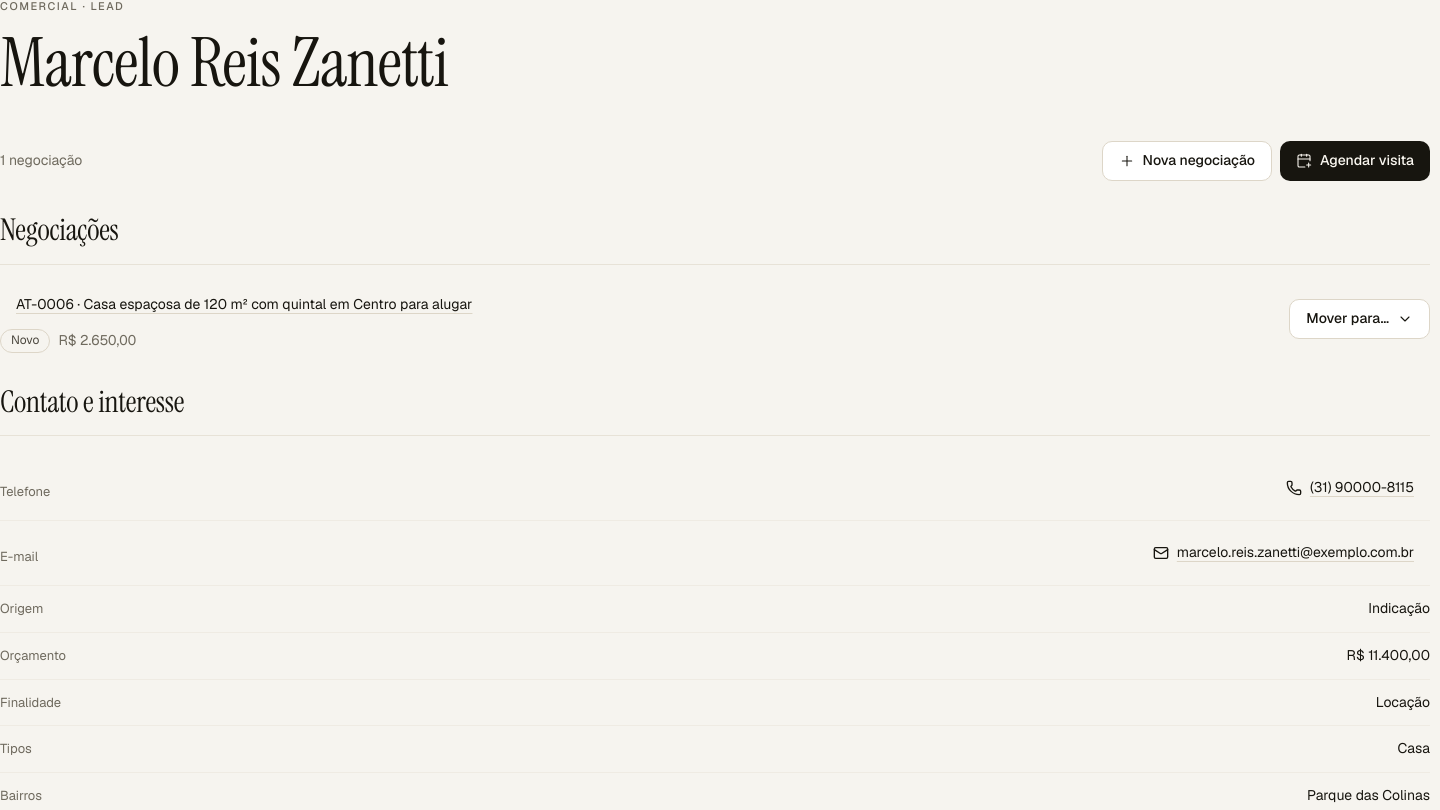
TelaLead (RF-33, RF-34, RF-37, RF-65, RF-70) › 'Nova negociação' cria outra negociação do lead, com imóvel opcional (RF-71)
Click the button "Nova negociação". click: [1187, 161]
box: [1102,141,1272,181]
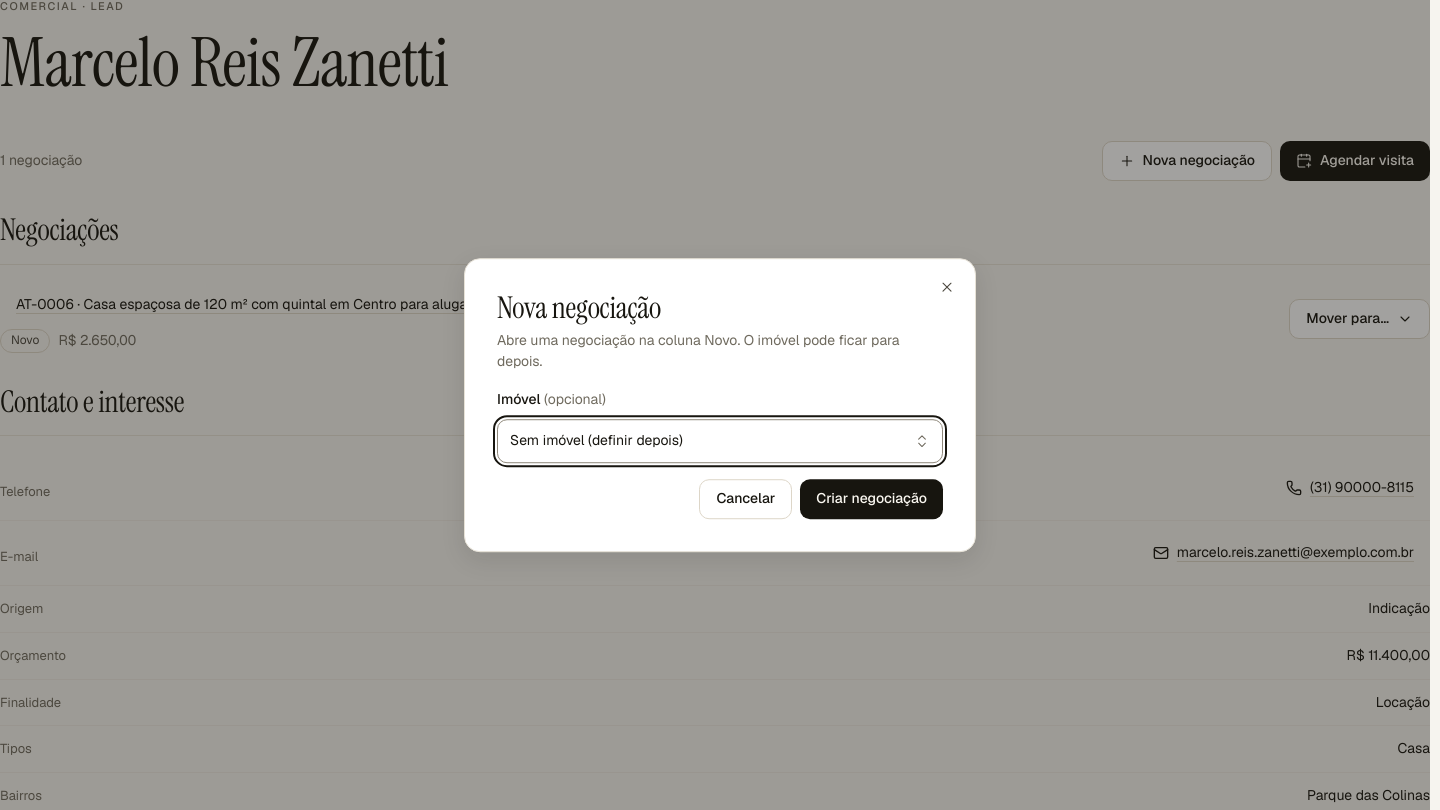
Click the button "Criar negociação". click: [872, 499]
box: [800,479,943,519]
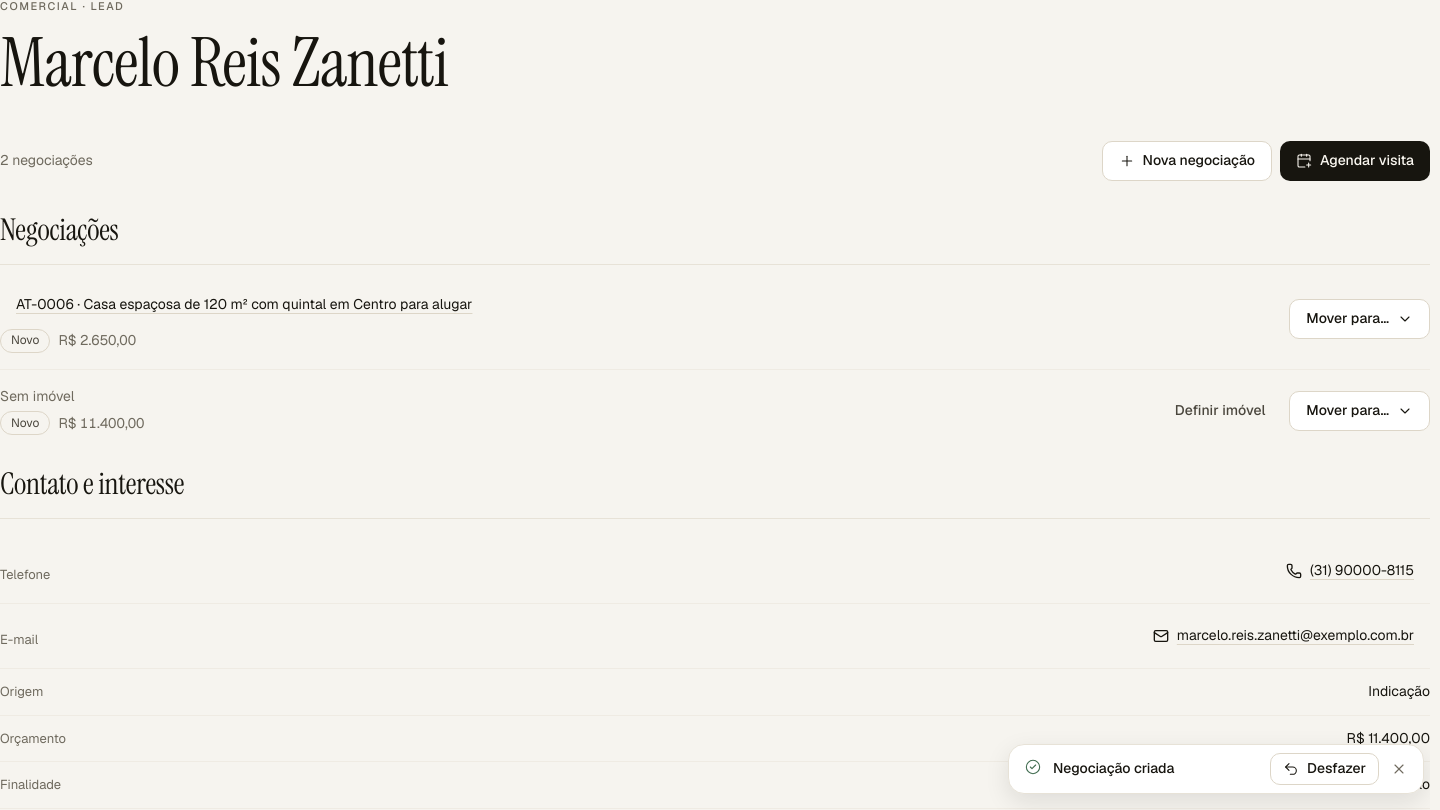
Result: the text "Negociação criada" is shown at [1053,759,1174,777]
